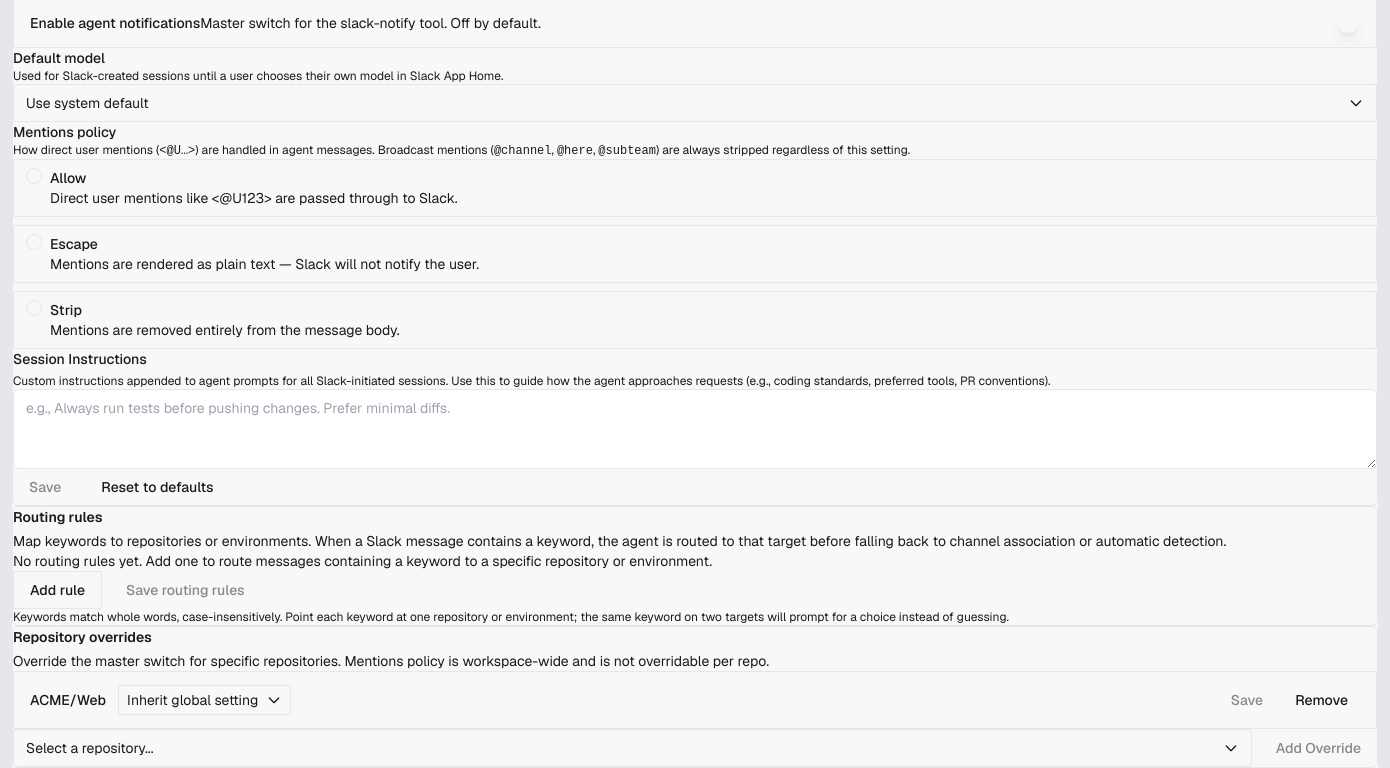
SlackIntegrationSettings › dedupes available repos against mixed-case override keys
(page scrolled)
Click the dropdown labelled "Select a repository..." at (90, 748), box [13,729,1252,767]
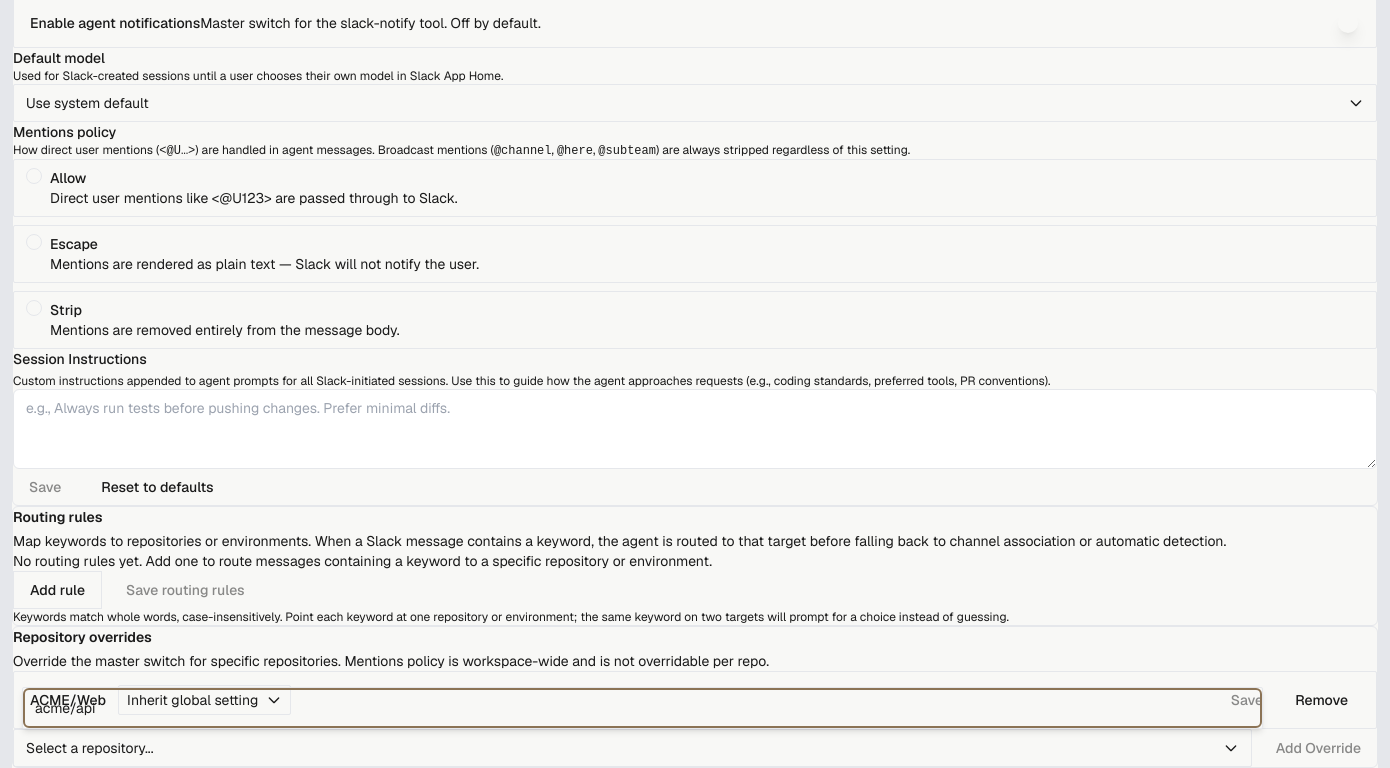
Result: the option "acme/api" is shown at [35,699,95,717]
